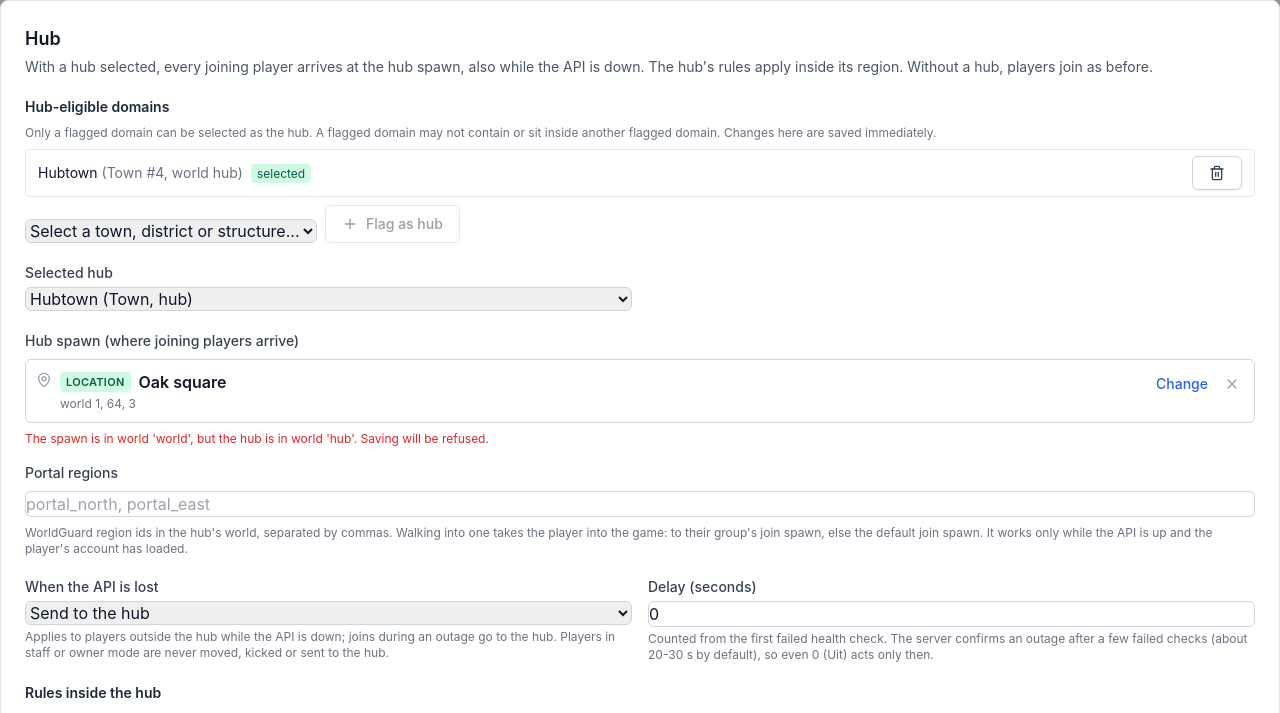
Test: HubSettingsCard (hub DESIGN §16 Phase 4) › warns when the spawn is in another world than the hub, and shows the API refusal of a nested hub
Check: the text "The spawn is in world 'world', but the hub is in world 'hub'" is shown, box [25,431,489,446]
Click the button named "Remove the hub flag of Hubtown": click(1217, 173) [1192,156,1242,190]
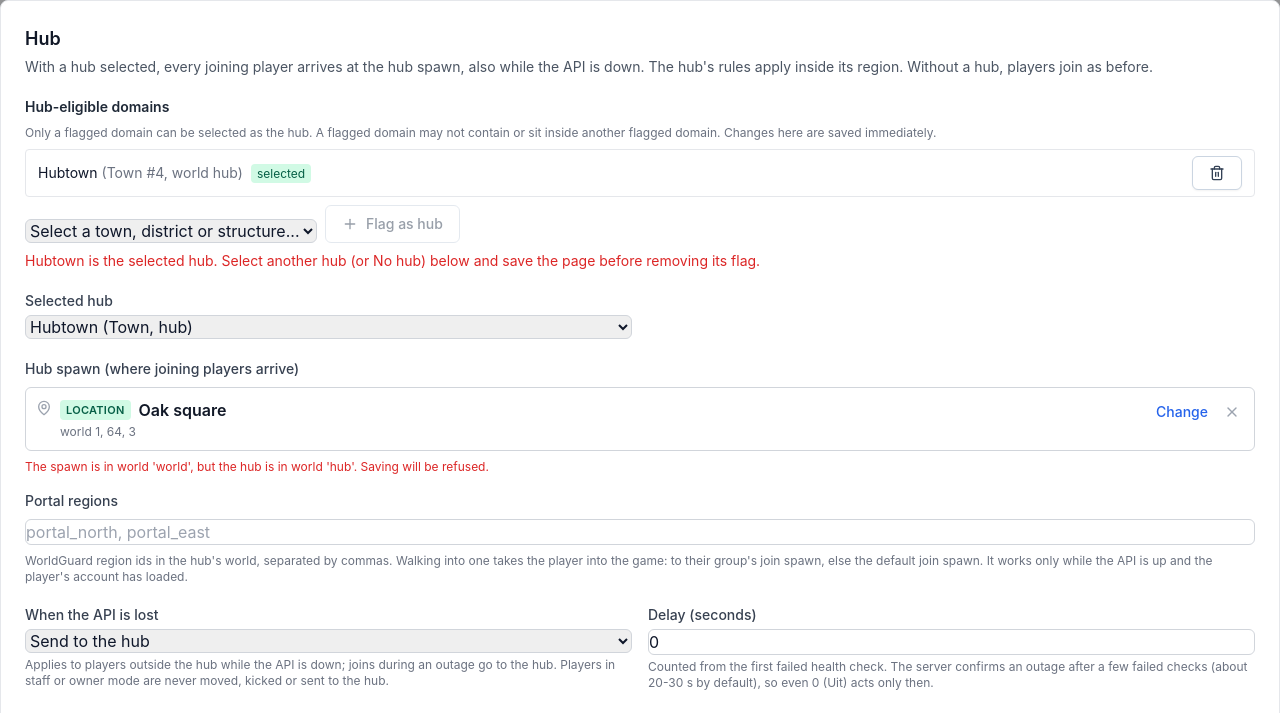
Check: the message shows "Hubtown is the selected hub. Select another hub", box [25,252,760,269]
Select "Town: Oakhaven" in the dropdown named "Domain to flag as hub": (171, 231) [25,219,317,243]
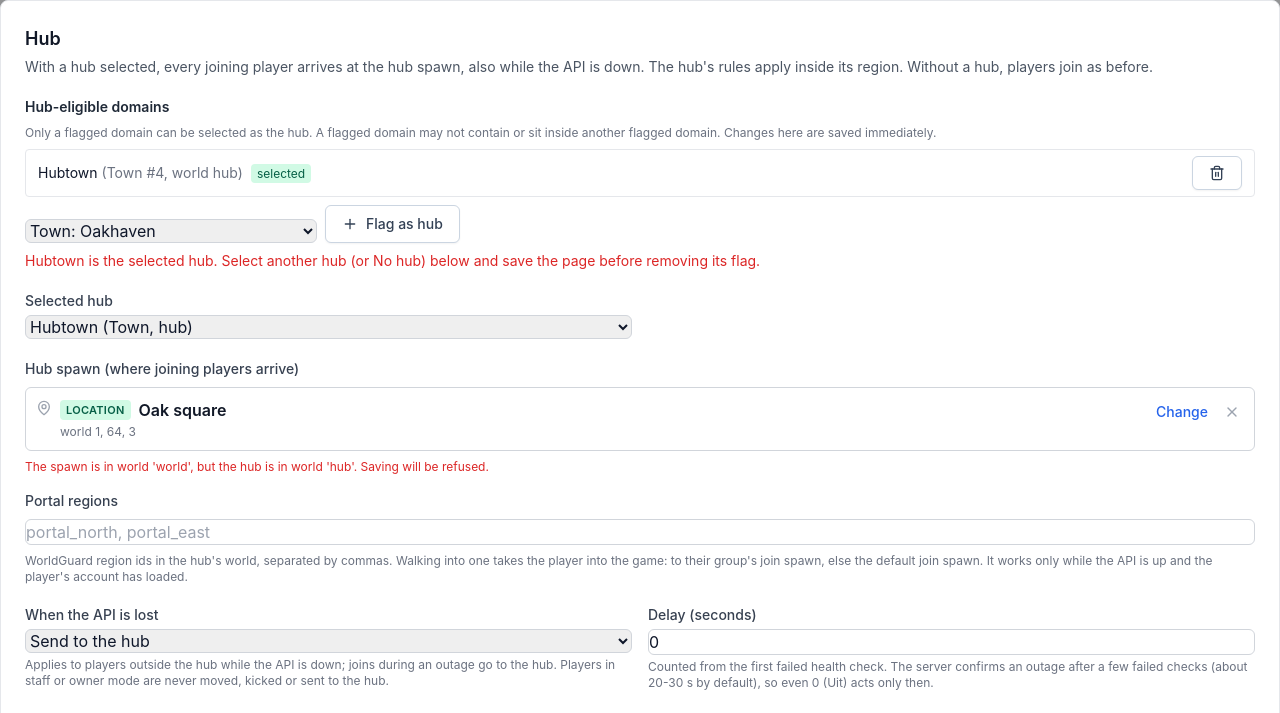
Click the button "Flag as hub": click(392, 224) [325,205,460,243]
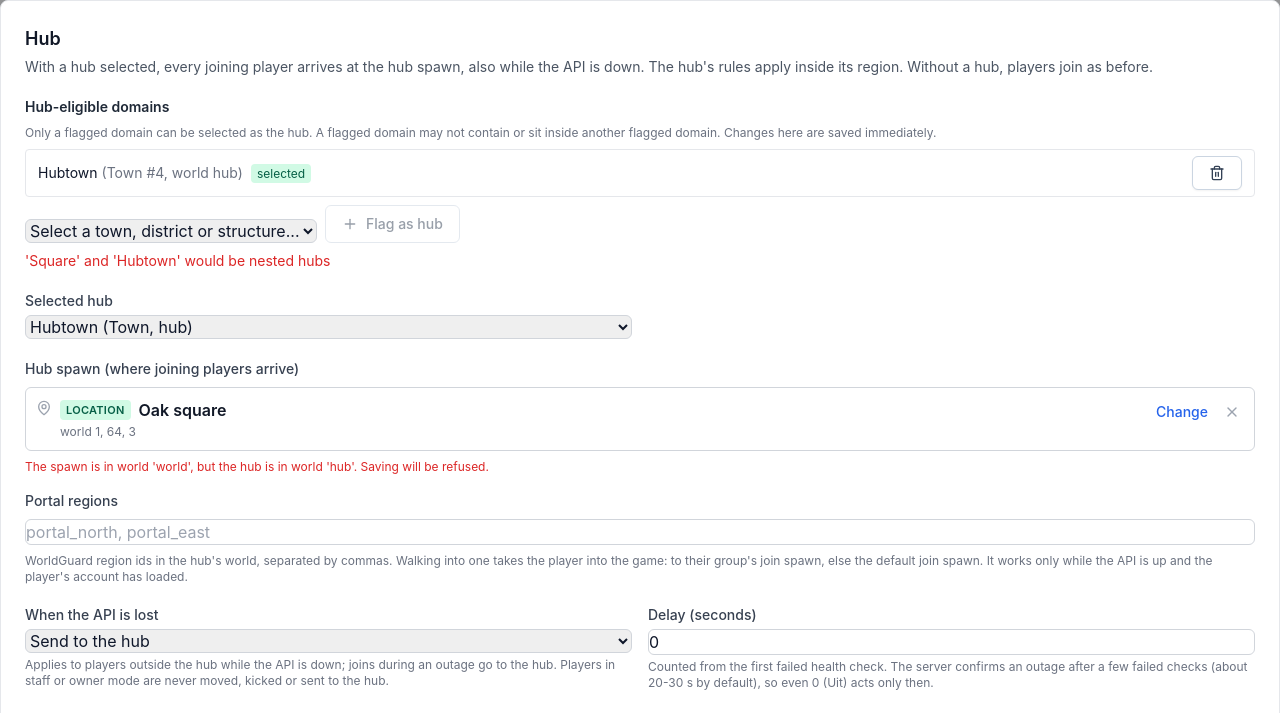
Check: the message shows "would be nested hubs", box [25,252,330,269]
